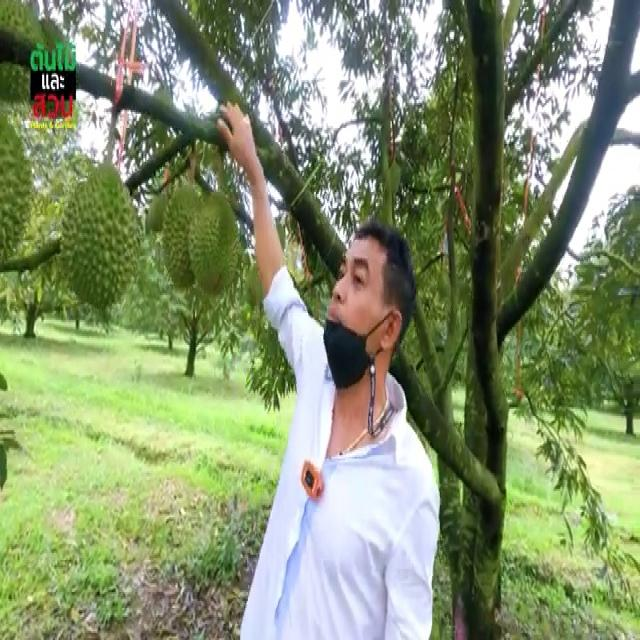durian: (57, 164, 145, 313), (186, 185, 242, 298), (163, 182, 210, 294)
